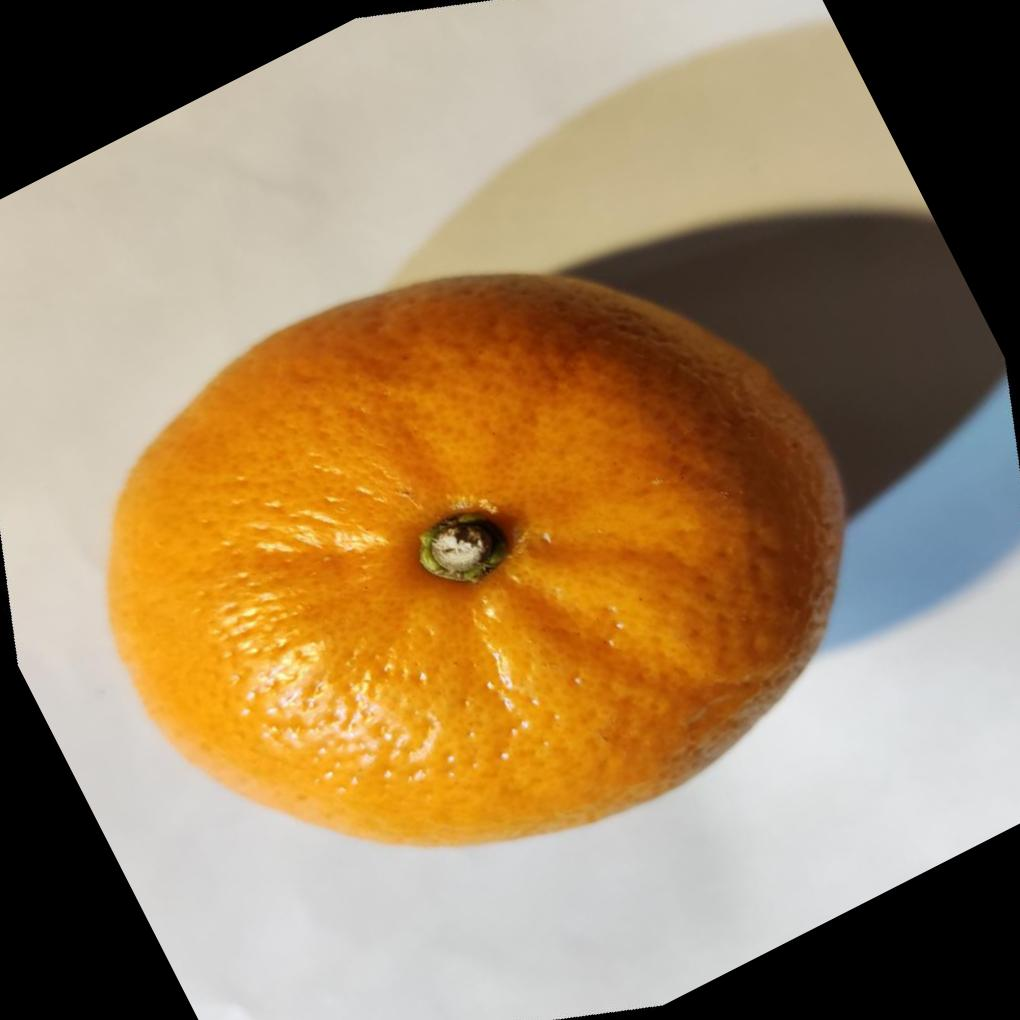FreshGuava: (101, 267, 847, 847)
